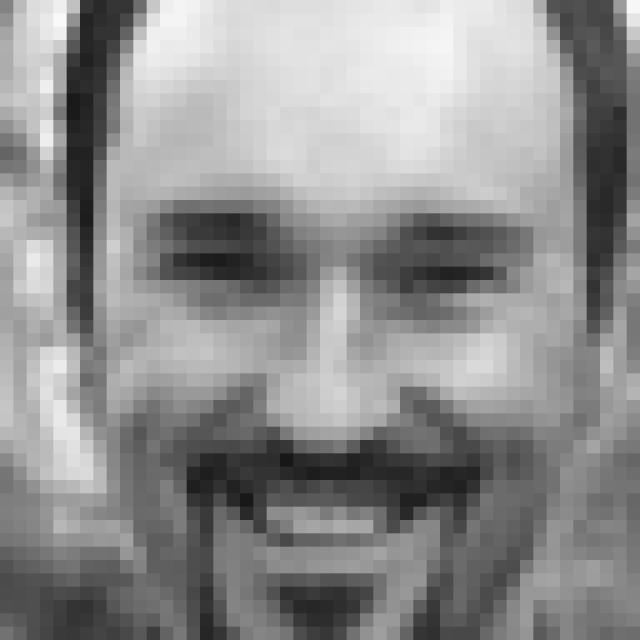happy: (142, 192, 539, 596)
